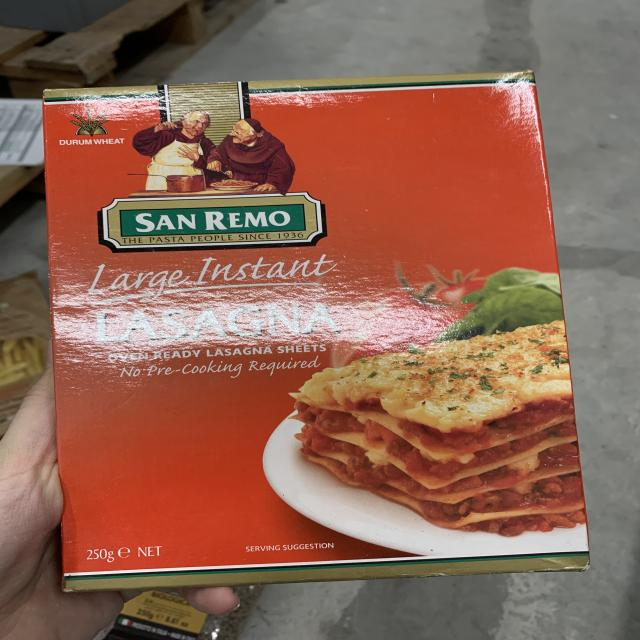object_name: (47, 90, 592, 572)
